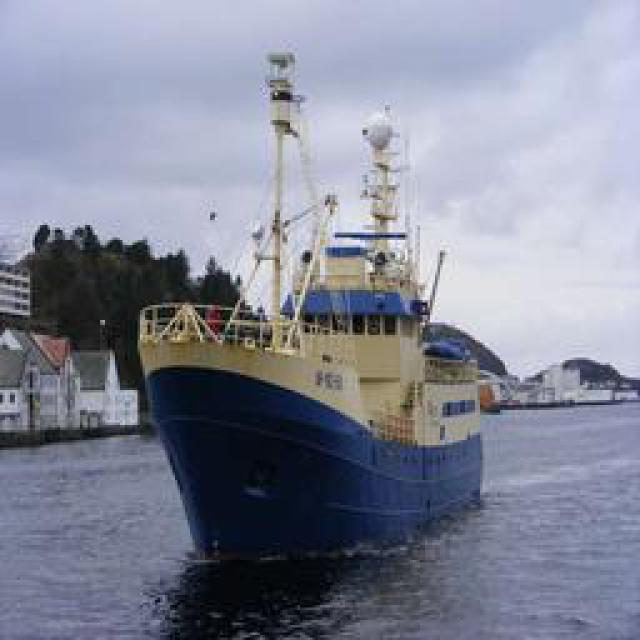Ship: (140, 51, 495, 561)
